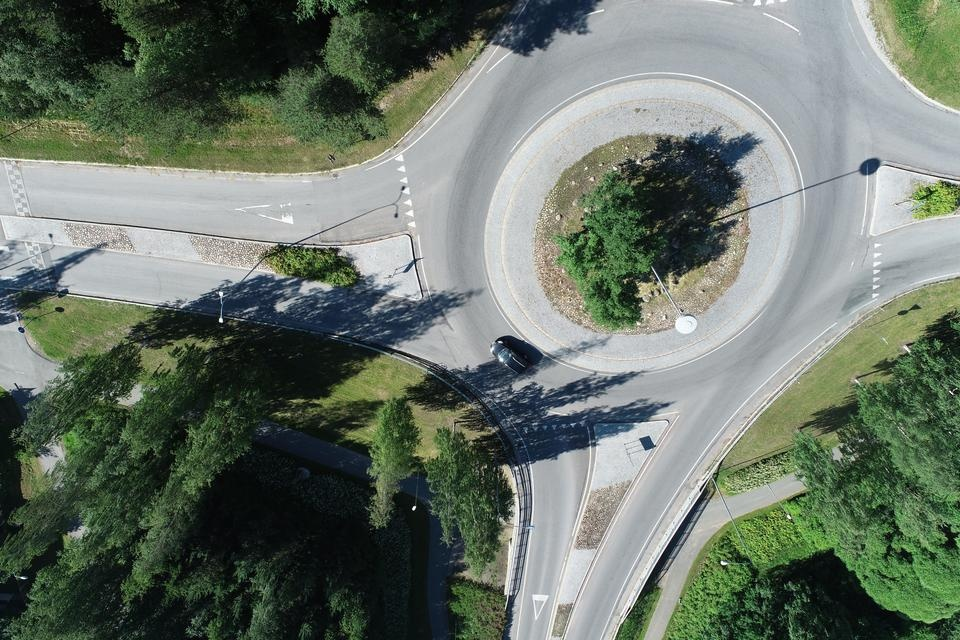roundabout: (353, 0, 950, 418)
